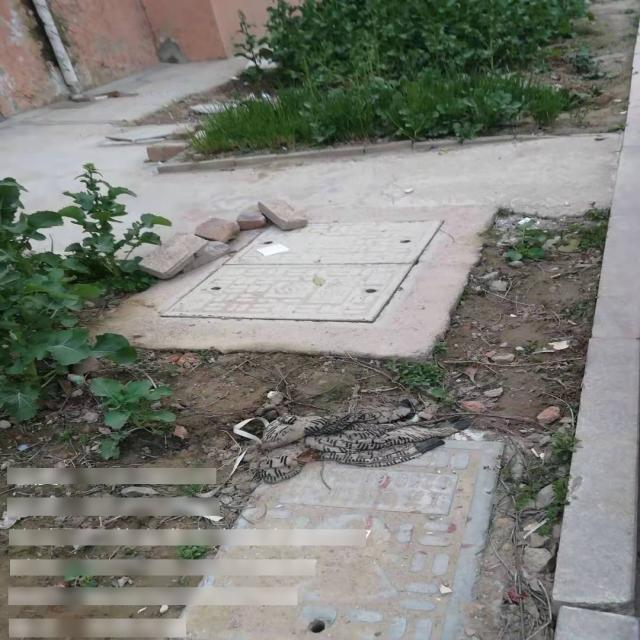Good: (164, 435, 506, 640), (156, 218, 442, 324)
